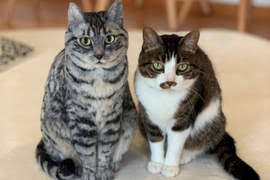cat: (58, 1, 135, 80), (138, 23, 210, 103)
